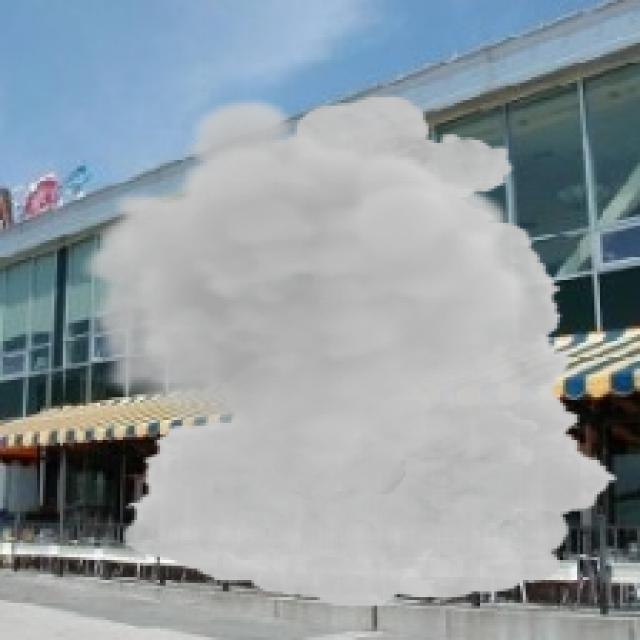smoke: (80, 94, 620, 609)
